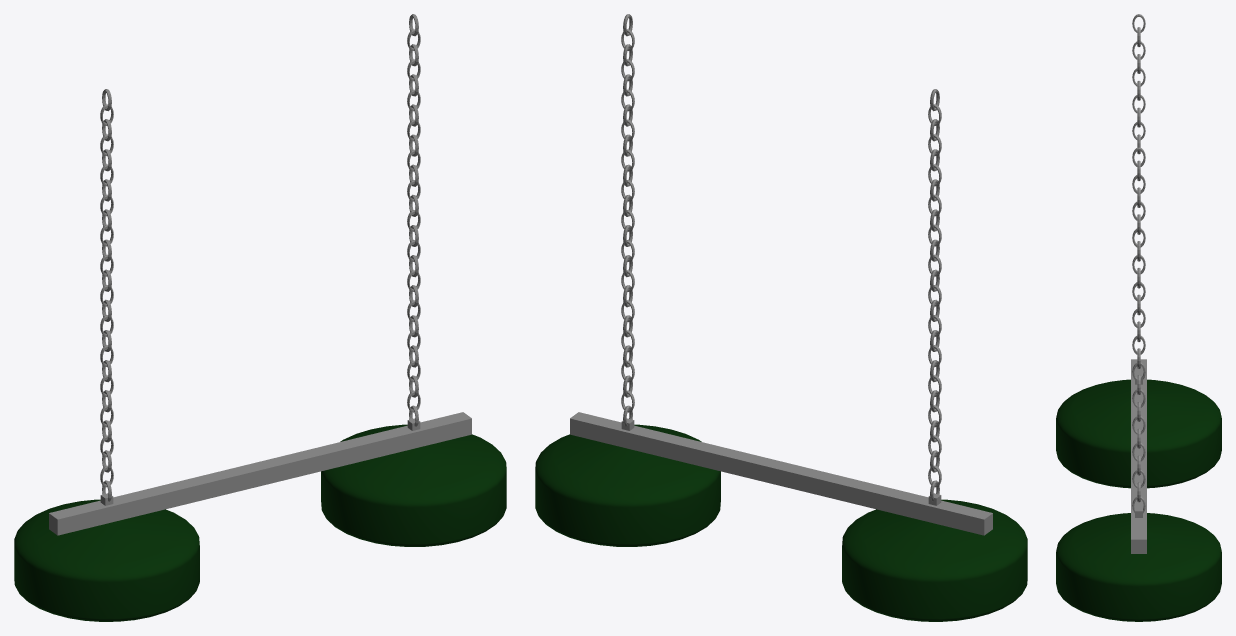
File: tableLamps.obj
3 renders of one model, left to right at view 1: azimuth 30°, elevation 25°; view 2: azimuth 150°, elevation 25°; view 3: azimuth 270°, elevation 25°, orthographic. The views are drawn at different scales.
Parts seen in each view (by area): view 1: shade_x_min, shade_x, bar, chain_x, chain_x_min; view 2: shade_x_min, shade_x, bar, chain_x, chain_x_min; view 3: shade_x, shade_x_min, chain_x, bar, chain_x_min.
Boxes of the visible parts, x1=… form: shade_x_min: x1=14, y1=499, x2=199, y2=621; shade_x: x1=321, y1=424, x2=506, y2=546; bar: x1=49, y1=412, x2=471, y2=535; chain_x: x1=407, y1=14, x2=420, y2=430; chain_x_min: x1=100, y1=89, x2=113, y2=505; shade_x_min: x1=842, y1=499, x2=1027, y2=621; shade_x: x1=535, y1=424, x2=720, y2=546; bar: x1=570, y1=412, x2=992, y2=535; chain_x: x1=621, y1=14, x2=634, y2=430; chain_x_min: x1=928, y1=89, x2=941, y2=505; shade_x: x1=1056, y1=513, x2=1221, y2=621; shade_x_min: x1=1056, y1=379, x2=1221, y2=488; chain_x: x1=1132, y1=147, x2=1145, y2=517; bar: x1=1131, y1=359, x2=1146, y2=553; chain_x_min: x1=1132, y1=14, x2=1145, y2=384.
Size of the model in its own units: 1.52 by 1.57 by 0.525.
